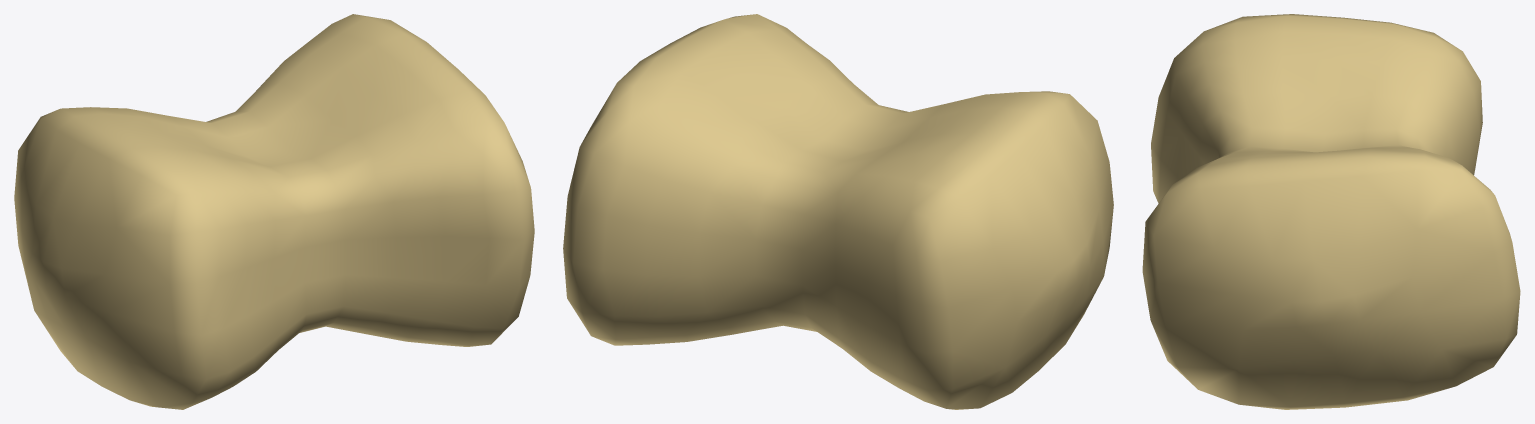
The model's file is knucklebone_talus.glb.
3 renders of one model, left to right at view 1: azimuth 30°, elevation 25°; view 2: azimuth 150°, elevation 25°; view 3: azimuth 270°, elevation 25°, orthographic. The views are drawn at different scales.
Visible parts, largest first — view 1: Knucklebone; view 2: Knucklebone; view 3: Knucklebone.
Boxes of the visible parts, <box> form: Knucklebone: <box>14,14,534,409</box>; Knucklebone: <box>563,14,1113,409</box>; Knucklebone: <box>1142,14,1520,409</box>.
Bounding box in the file's own units: 0.0967 × 0.0546 × 0.0739.
